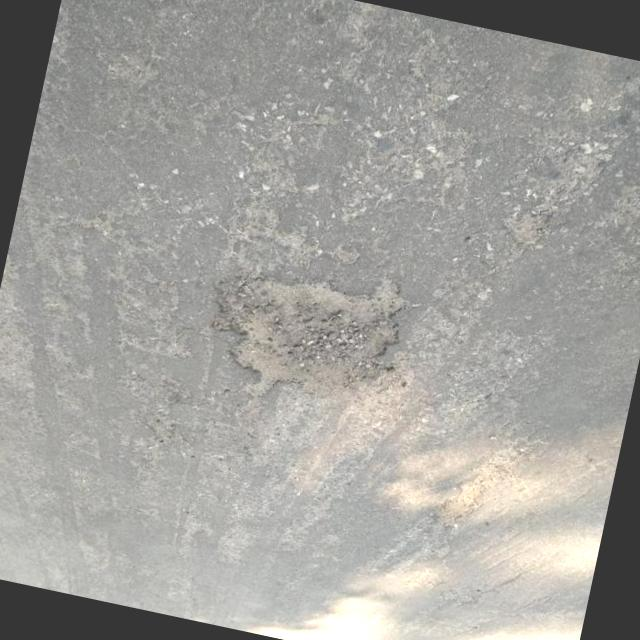pothole: (186, 243, 421, 425), (491, 201, 552, 253)
